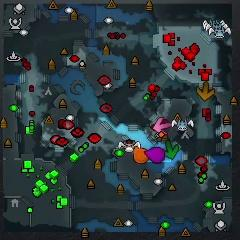p3: (145, 147, 165, 164)
p5: (133, 147, 149, 163)
x1: (154, 118, 171, 133)
x4: (164, 138, 181, 160)
x5: (196, 80, 214, 101)
